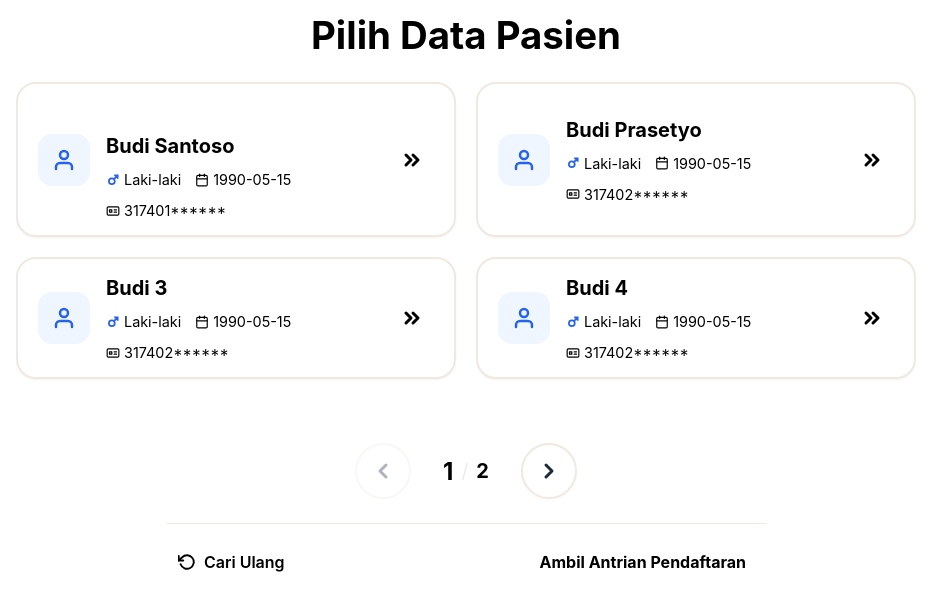
PatientContextConfirmStep › paginates patients list at 4 items per page
Expected: the button with test id "patient-P001" is shown, [16,82,456,237]
Expected: the element with test id "kiosk-pagination" reads "1 / 2", [355,443,577,499]
// Click next page
Click the button with class "next-btn": (549, 471) [521,443,577,499]
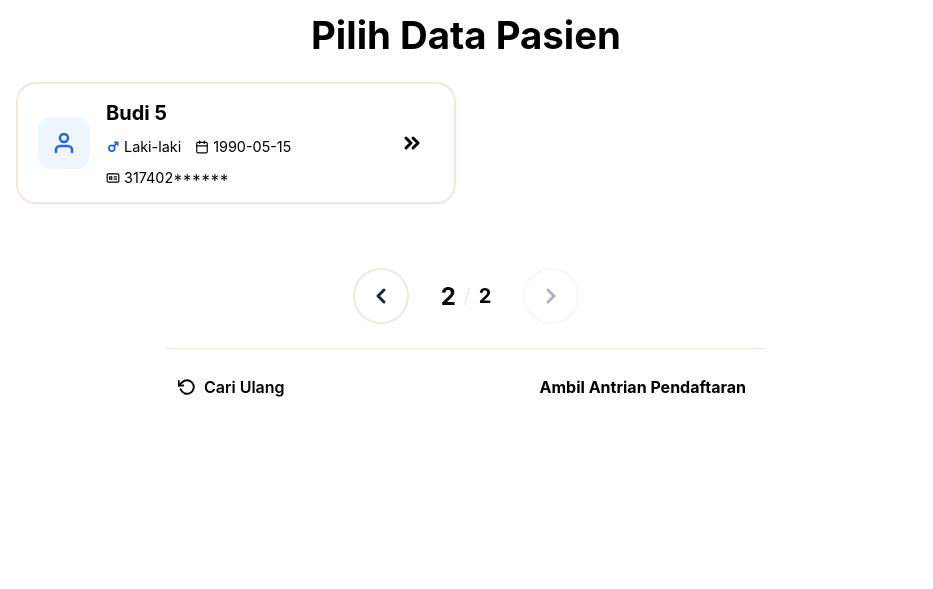
Now the element with test id "kiosk-pagination" reads "2 / 2", box [353,268,579,324]
